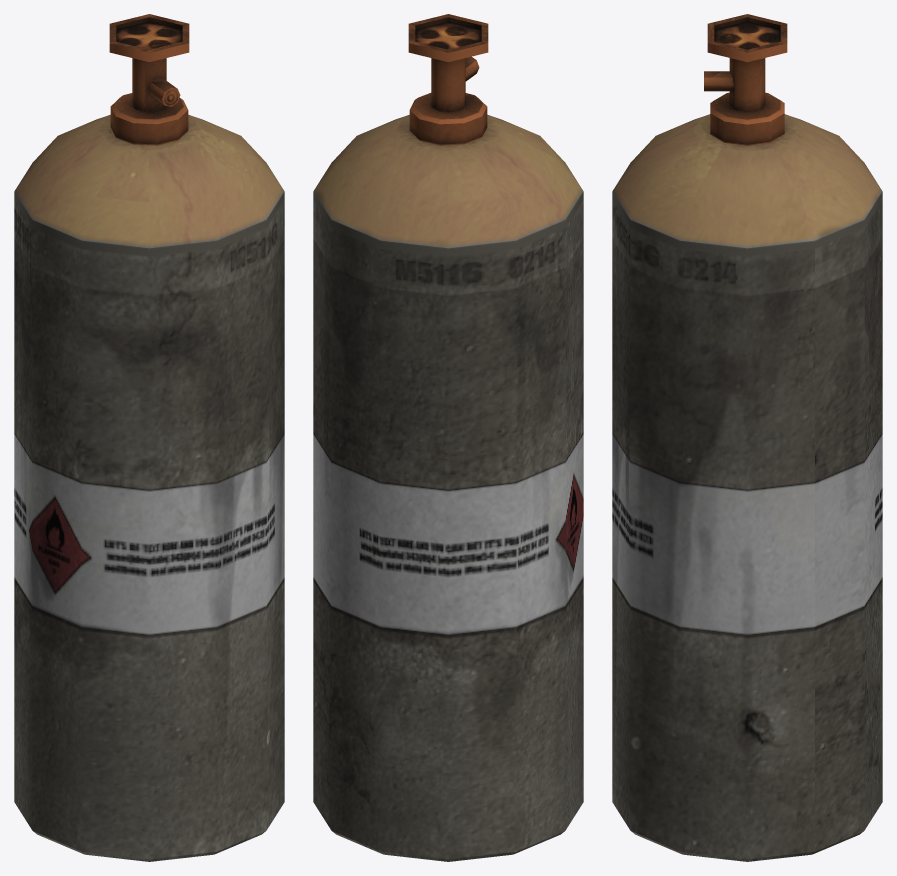
Rendered from other_gascanister.dae.
The picture shows the model from 3 angles, left to right: view 1: azimuth 30°, elevation 25°; view 2: azimuth 150°, elevation 25°; view 3: azimuth 270°, elevation 25°; orthographic projection.
Visible parts, largest first — view 1: gascanister; view 2: gascanister; view 3: gascanister.
Part boxes in pixels (x1,y1,x2,y2): gascanister: [14, 14, 284, 861]; gascanister: [313, 14, 583, 861]; gascanister: [612, 14, 882, 861].
Size of what is drawn, in the model's own units: 0.3308 by 1.05 by 0.3308.
Materials: 1 (1 with a texture image).
